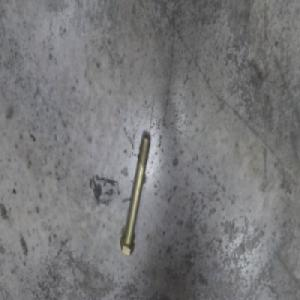Bolt: (119, 135, 153, 254)
